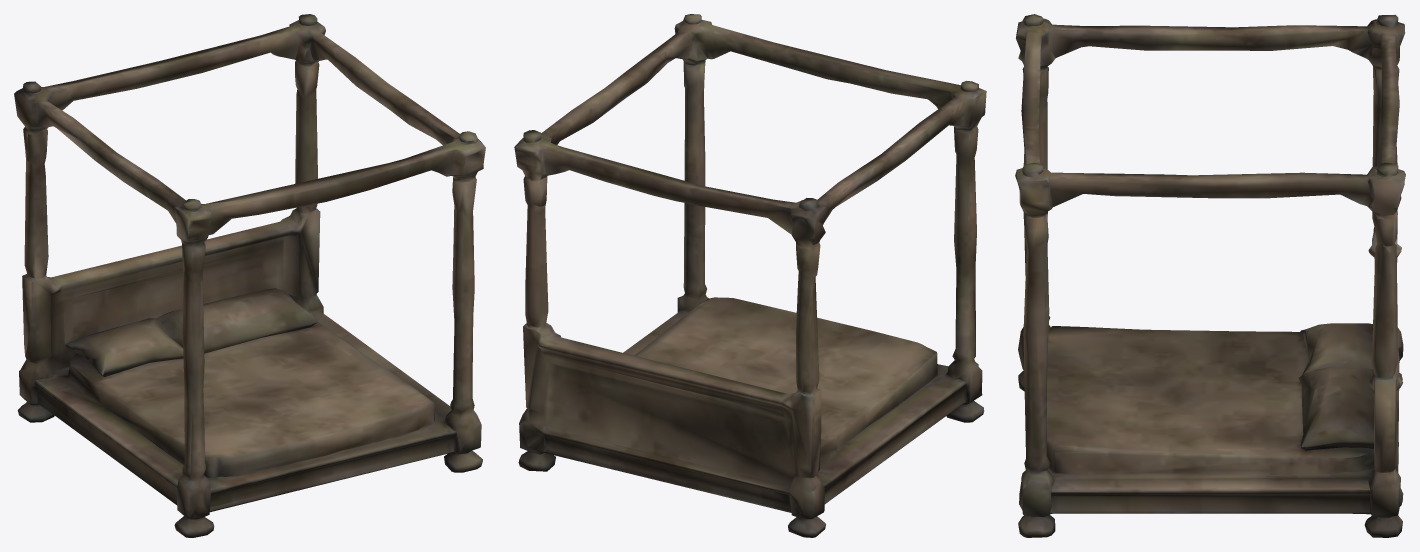
Rendered from plain-wood-four-poster-bed-v001.glb.
3 renders of one model, left to right at view 1: azimuth 30°, elevation 25°; view 2: azimuth 150°, elevation 25°; view 3: azimuth 270°, elevation 25°, orthographic. The views are drawn at different scales.
Parts seen in each view (by area): view 1: plain-wood-four-poster-bed; view 2: plain-wood-four-poster-bed; view 3: plain-wood-four-poster-bed.
Boxes of the visible parts, x1,y1,x2,y2 form: plain-wood-four-poster-bed: (14,14,485,537); plain-wood-four-poster-bed: (514,14,986,537); plain-wood-four-poster-bed: (1015,14,1405,537).
Size of the model in its own units: 1.98 by 2.09 by 2.01.
Materials: 1 (1 with a texture image).
